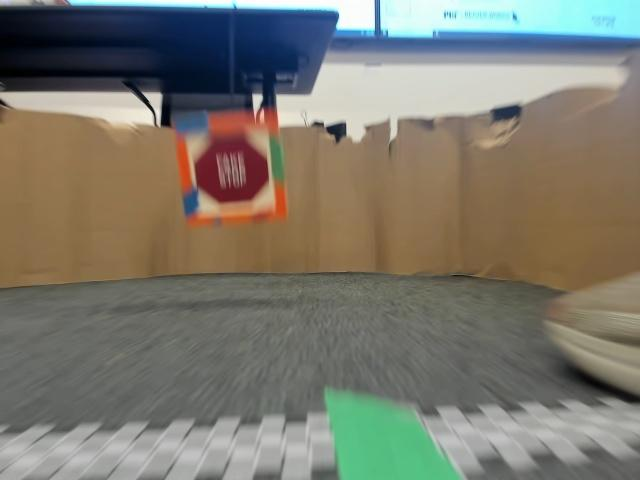Fake Stop: (190, 142, 264, 207)
